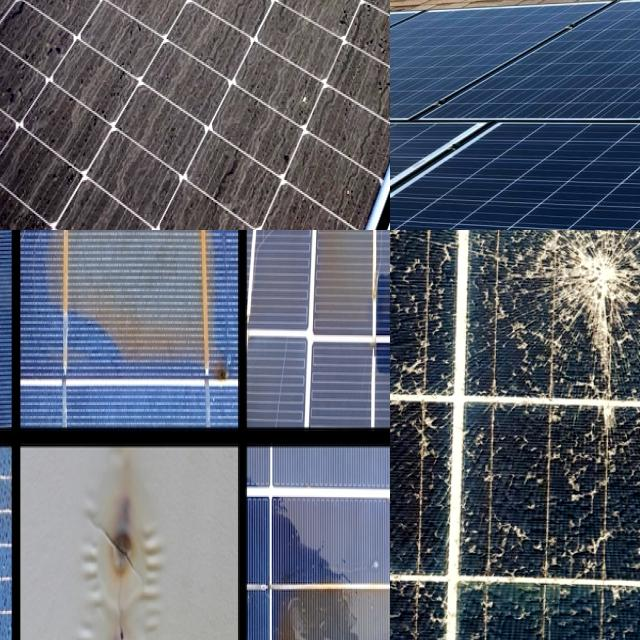crack: (390, 87, 640, 230), (412, 0, 640, 155), (390, 0, 618, 148)
dust: (43, 0, 222, 171), (263, 0, 375, 135), (102, 0, 263, 92), (276, 0, 390, 88), (4, 182, 197, 230), (0, 0, 78, 108), (217, 182, 366, 230)
hotspot: (505, 230, 640, 378)
shadow: (42, 230, 233, 404), (269, 545, 390, 640), (0, 444, 53, 640), (0, 230, 42, 397), (95, 494, 154, 612)
